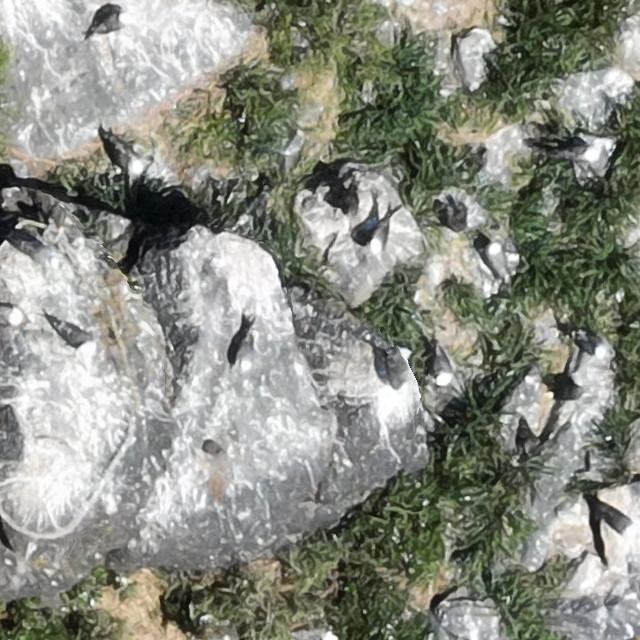umineko: (383, 339, 415, 404), (106, 131, 145, 175), (234, 334, 258, 372), (583, 143, 607, 178), (55, 323, 88, 348), (604, 511, 636, 536), (578, 335, 611, 356), (368, 221, 388, 251), (434, 352, 452, 385), (488, 245, 505, 276), (97, 13, 123, 31), (0, 305, 19, 323)
